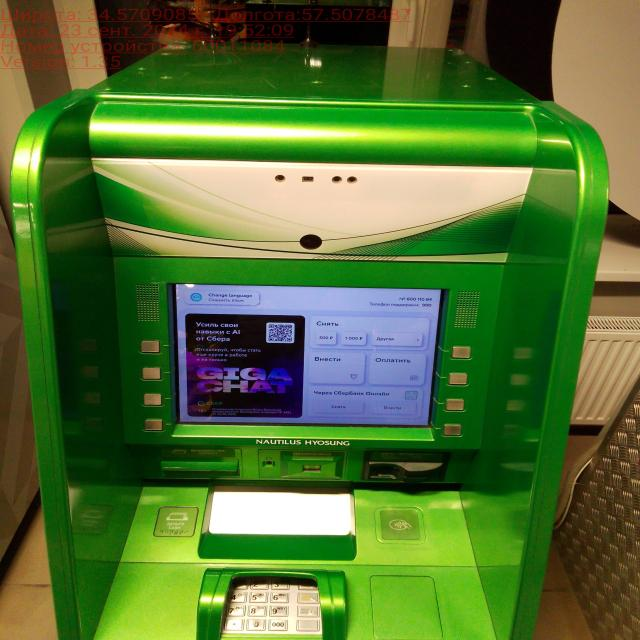bank: (12, 38, 611, 640)
